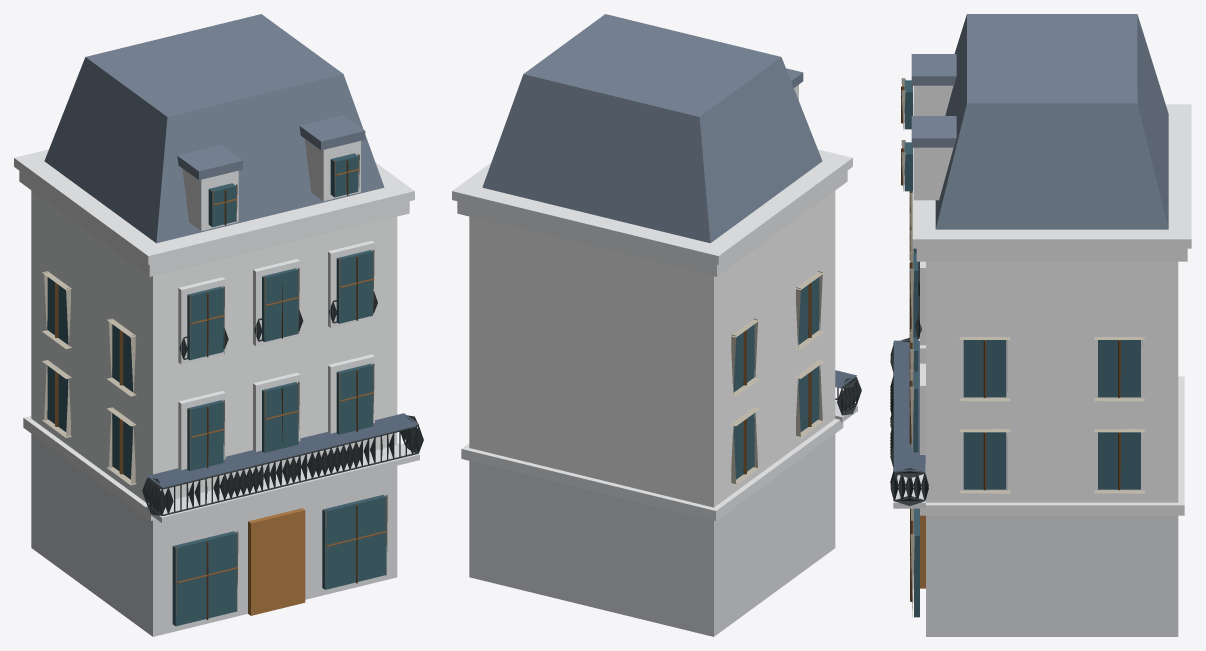
File: city_detail_01-lod.glb
The picture shows the model from 3 angles, left to right: view 1: azimuth 30°, elevation 25°; view 2: azimuth 150°, elevation 25°; view 3: azimuth 270°, elevation 25°; orthographic projection. The views are drawn at different scales.
Parts seen in each view (by area): view 1: Exterior architecture detail 1; view 2: Exterior architecture detail 1; view 3: Exterior architecture detail 1.
Boxes of the visible parts, box(x1,y1,x2,y2) form: Exterior architecture detail 1: box(14, 14, 423, 636); Exterior architecture detail 1: box(452, 14, 861, 636); Exterior architecture detail 1: box(890, 14, 1191, 636).
Bounding box in the file's own units: 7.85 × 13.99 × 7.4.
